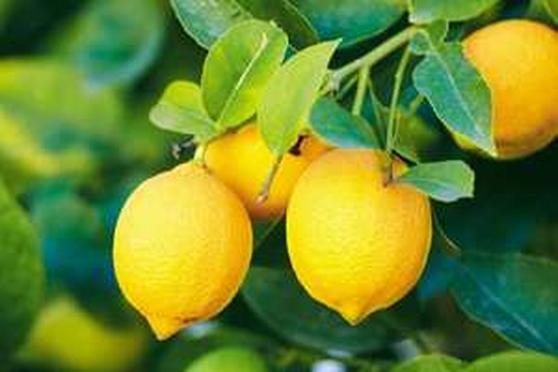lemon: (286, 146, 434, 330), (111, 157, 250, 339)
